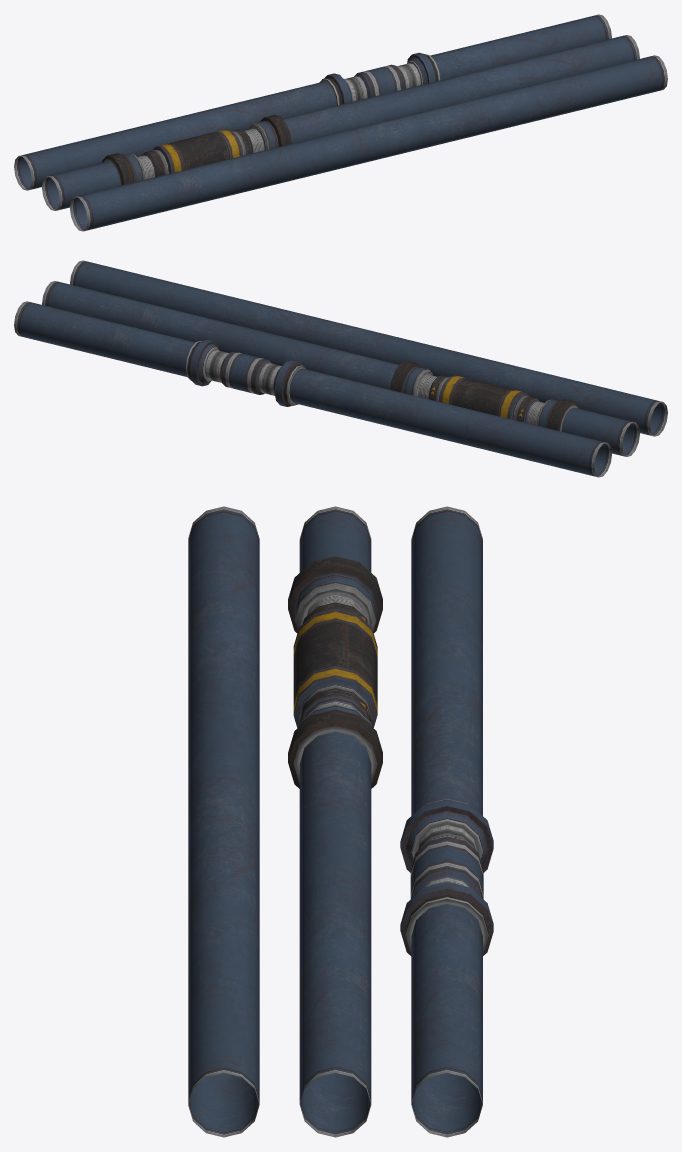
File: Pipe3_B_L0.fbx
The picture shows the model from 3 angles, top to bottom: view 1: azimuth 30°, elevation 25°; view 2: azimuth 150°, elevation 25°; view 3: azimuth 270°, elevation 25°; orthographic projection. The views are drawn at different scales.
Visible parts, largest first — view 1: PIpe3_B_L0; view 2: PIpe3_B_L0; view 3: PIpe3_B_L0.
Part boxes in pixels (x1,y1,x2,y2): PIpe3_B_L0: [14, 14, 667, 231]; PIpe3_B_L0: [14, 260, 667, 477]; PIpe3_B_L0: [188, 506, 493, 1137].
Bounding box in the file's own units: 200 × 14.17 × 45.61.
